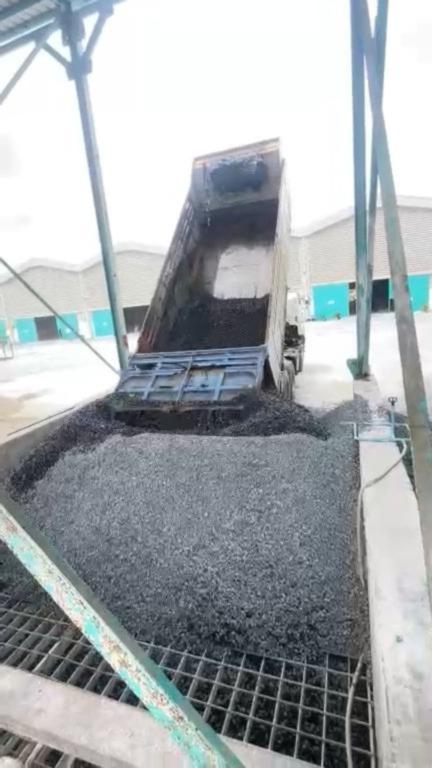gravel: (6, 372, 375, 659), (157, 294, 268, 350), (1, 547, 69, 620)
sand: (1, 392, 40, 442)
